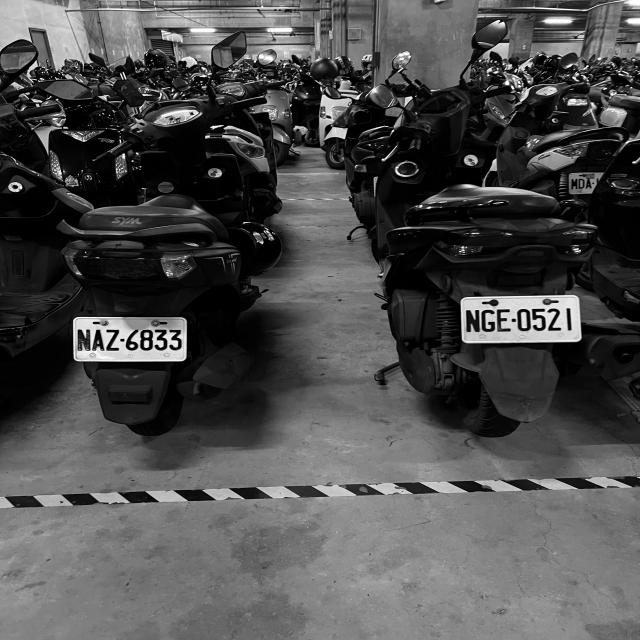-: (510, 316, 517, 324), (120, 338, 125, 342)
0: (516, 308, 532, 331)
1: (563, 306, 575, 332)
2: (546, 307, 562, 331)
3: (154, 328, 168, 351), (168, 329, 182, 351)
5: (531, 307, 547, 332)
6: (126, 328, 139, 351)
8: (140, 328, 154, 351)
A: (92, 328, 105, 352)
E: (496, 308, 512, 332)
G: (480, 308, 497, 332)
N: (466, 309, 482, 332), (76, 328, 92, 351)
Z: (106, 328, 120, 351)
plate: (461, 298, 580, 340), (74, 318, 186, 360)
